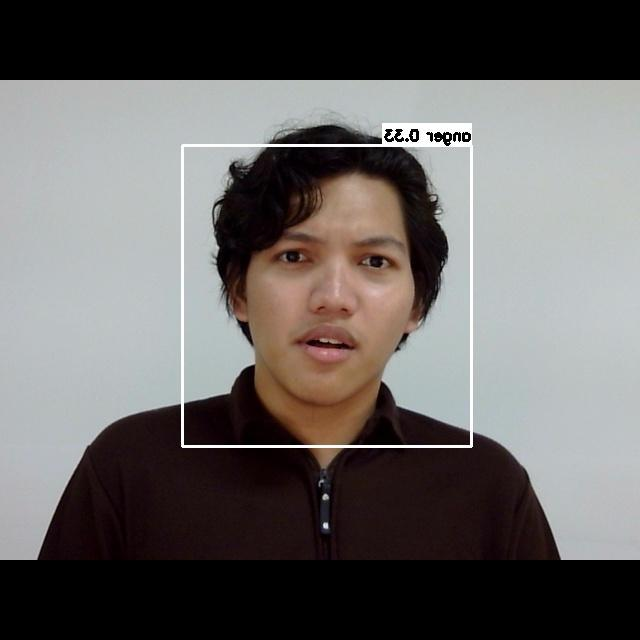Surprised: (245, 208, 425, 399)
